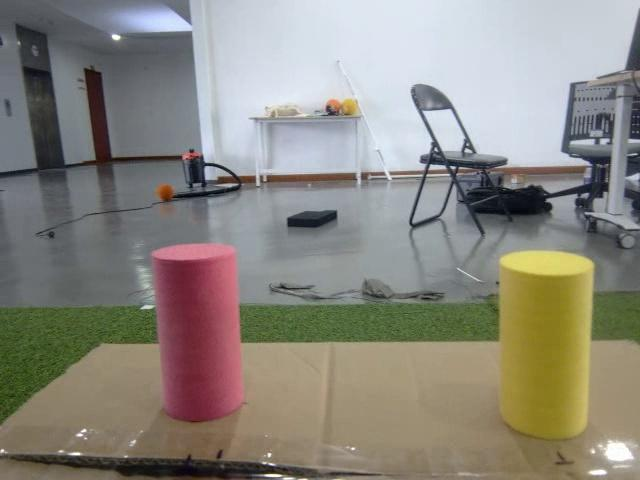red_cylinder: (150, 241, 250, 423)
yellow_cylinder: (495, 250, 597, 445)
